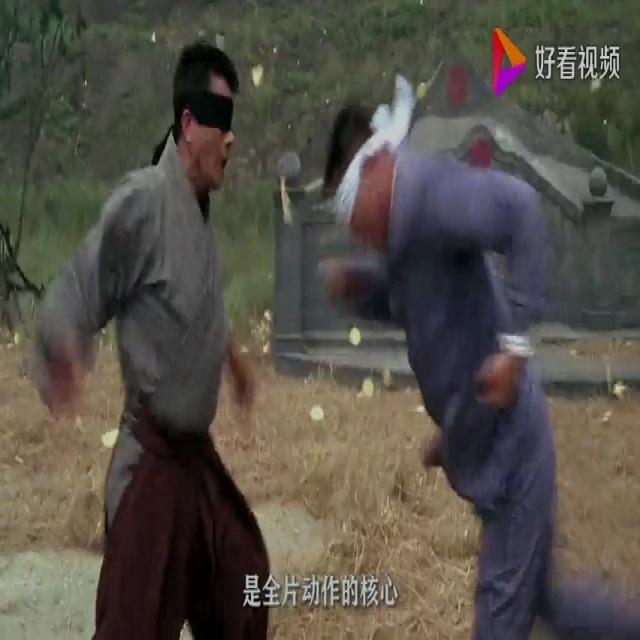non-fight: (43, 42, 610, 638)
